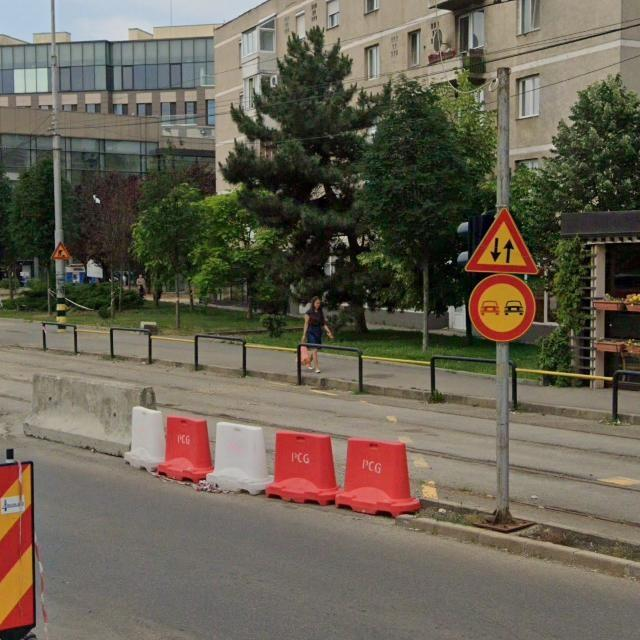forb_overtake: (469, 274, 535, 341)
